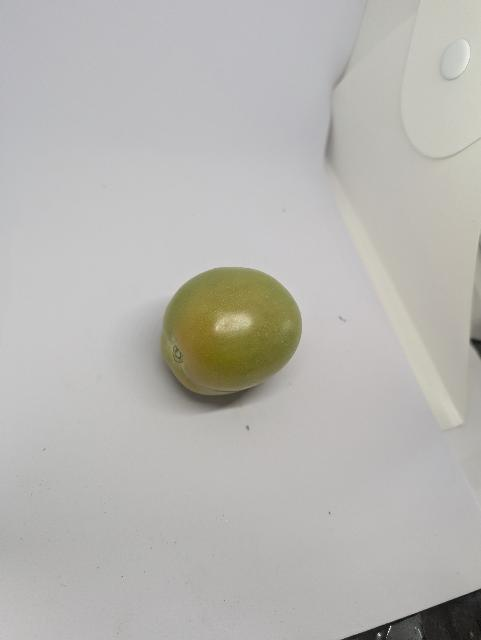green: (152, 253, 309, 411)
